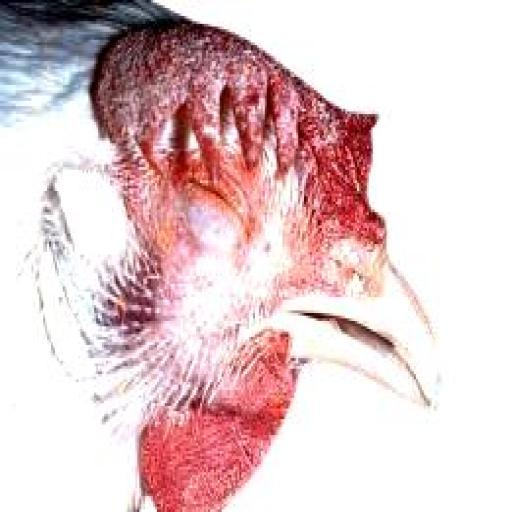disease: (107, 40, 307, 171), (176, 187, 268, 262), (319, 109, 363, 233)
